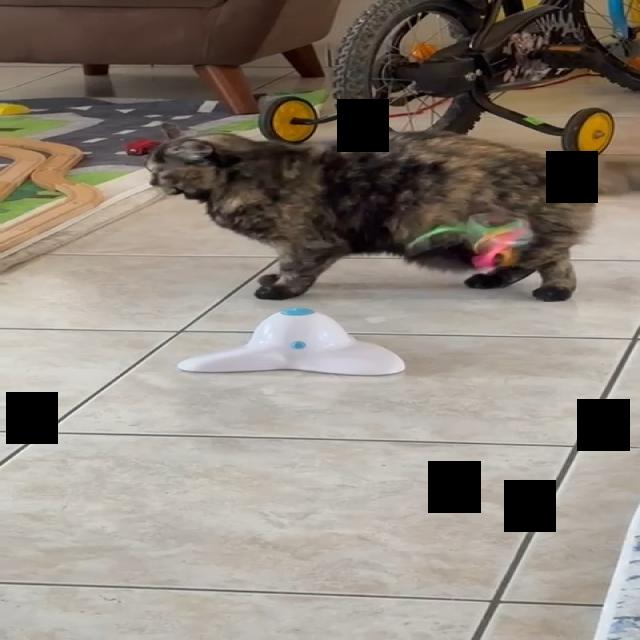authorized: (142, 121, 634, 302)
